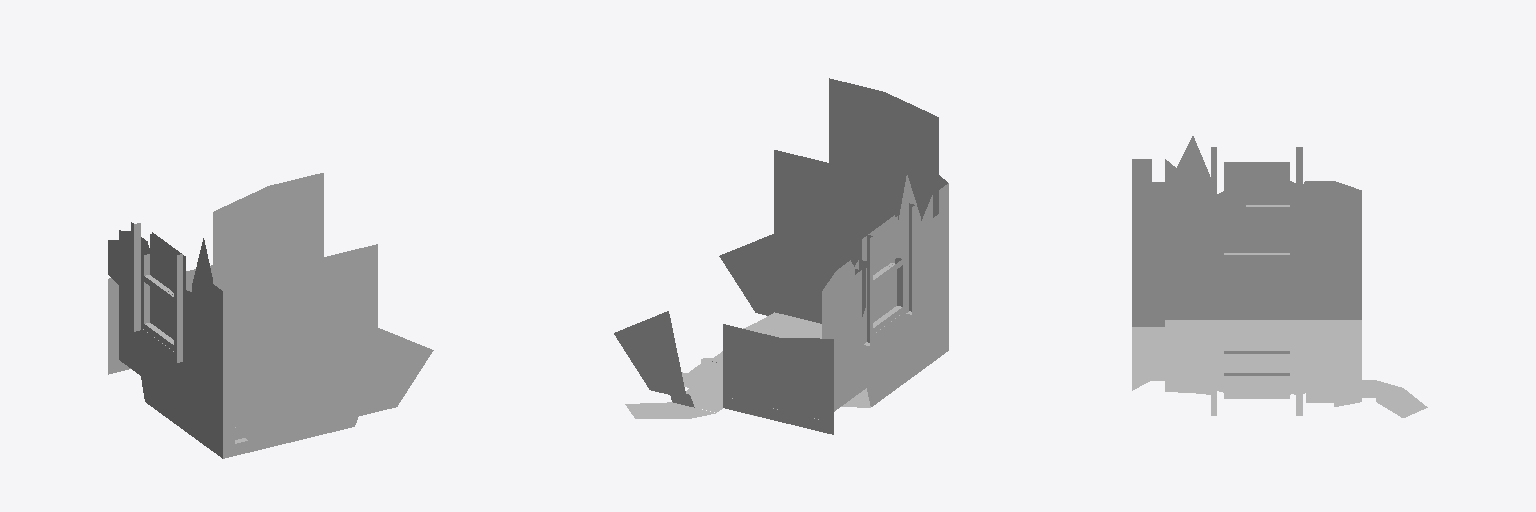
The model's file is Destory1.obj.
3 views of the same model, side by side, from view 1: azimuth 30°, elevation 25°; view 2: azimuth 150°, elevation 25°; view 3: azimuth 270°, elevation 25° (orthographic).
Parts seen in each view (by area): view 1: Destory1; view 2: Destory1; view 3: Destory1.
Part boxes in pixels (bbox=[...]): Destory1: bbox=[108, 173, 433, 458]; Destory1: bbox=[614, 78, 948, 434]; Destory1: bbox=[1132, 136, 1427, 417].
Bounding box in the file's own units: 3.97 × 4.35 × 4.49.